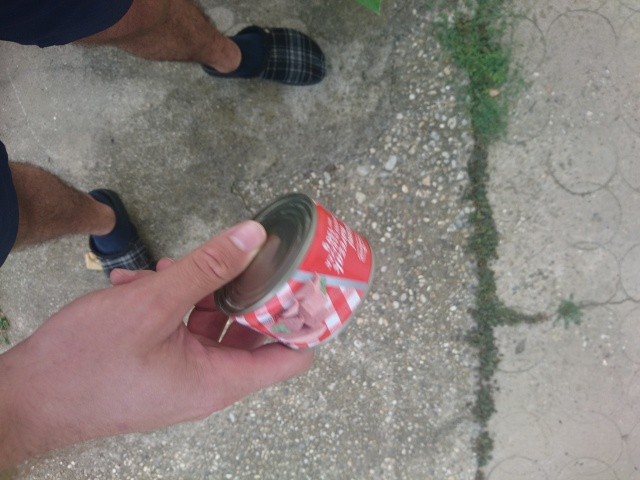Podravka Luncheon Meat 150g: (208, 189, 379, 354)
